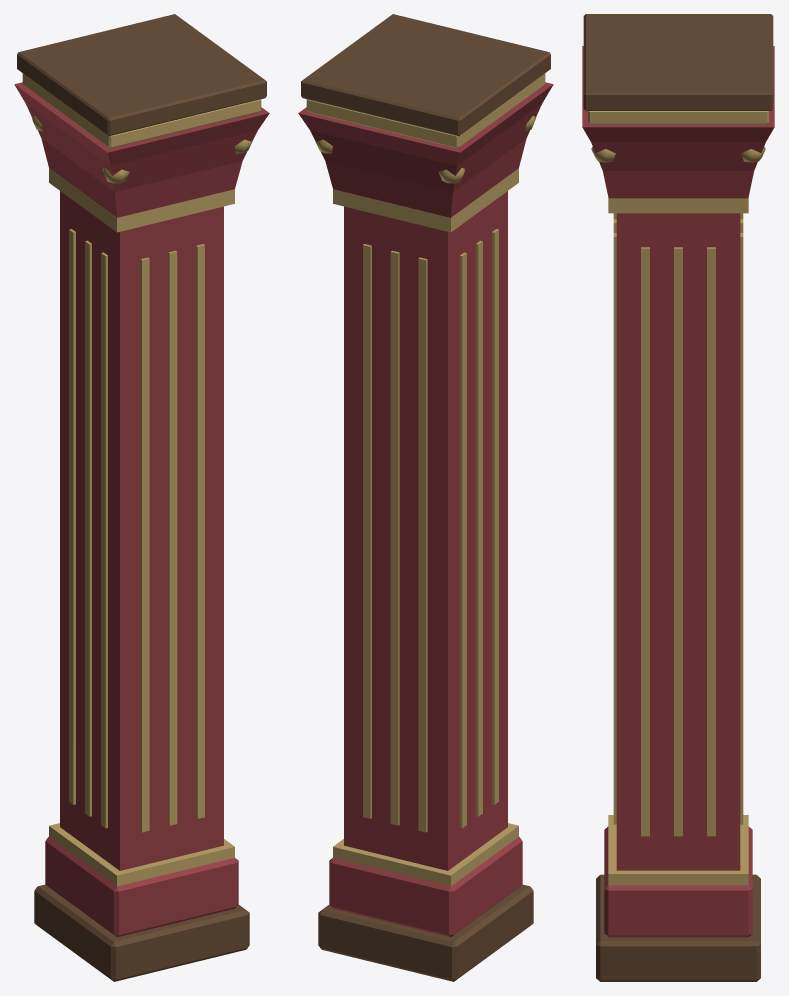
File: column_balcony.glb
The picture shows the model from 3 angles, left to right: view 1: azimuth 30°, elevation 25°; view 2: azimuth 150°, elevation 25°; view 3: azimuth 270°, elevation 25°; orthographic projection. The views are drawn at different scales.
Visible parts, largest first — view 1: wall_theater__column_balcony__solid, brass__column_balcony__solid, dark_wood__column_balcony__solid; view 2: wall_theater__column_balcony__solid, brass__column_balcony__solid, dark_wood__column_balcony__solid; view 3: wall_theater__column_balcony__solid, brass__column_balcony__solid, dark_wood__column_balcony__solid.
Part boxes in pixels (left/top/right/bottom): wall_theater__column_balcony__solid: left=14, top=82, right=269, bottom=937; brass__column_balcony__solid: left=22, top=73, right=261, bottom=886; dark_wood__column_balcony__solid: left=17, top=14, right=266, bottom=981; wall_theater__column_balcony__solid: left=298, top=82, right=553, bottom=937; brass__column_balcony__solid: left=306, top=73, right=545, bottom=886; dark_wood__column_balcony__solid: left=301, top=14, right=550, bottom=981; wall_theater__column_balcony__solid: left=582, top=46, right=774, bottom=937; brass__column_balcony__solid: left=588, top=111, right=768, bottom=885; dark_wood__column_balcony__solid: left=583, top=14, right=773, bottom=981.
Size of the model in its own units: 0.9334 by 4.8 by 0.9334.
